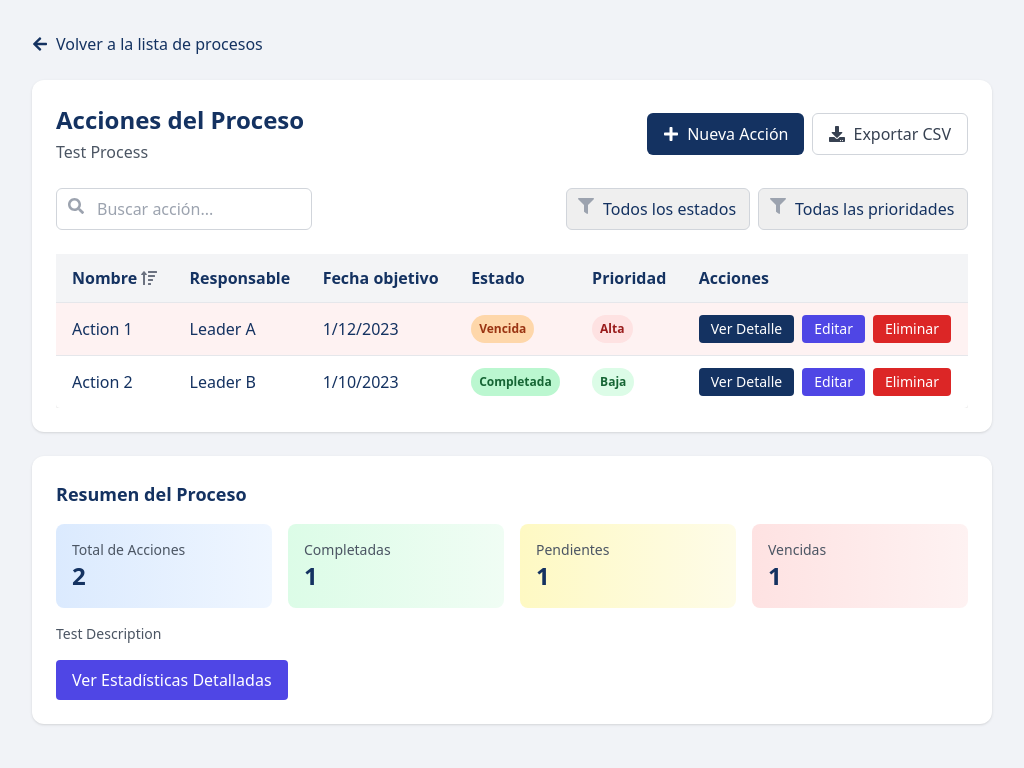
Test case: ActionsList › should filter actions by status
expect the text "Action 1" is shown: met, box [56, 302, 174, 356]
Select "Completadas" in the 1st dropdown at (658, 209), box [566, 188, 750, 230]
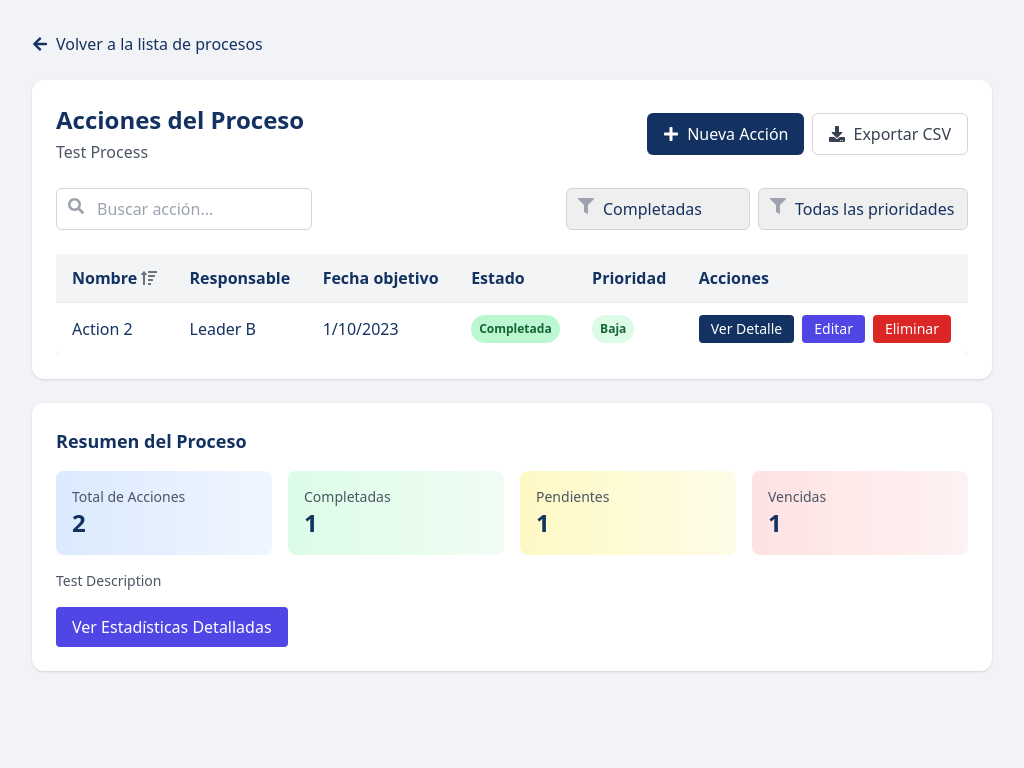
expect the text "Action 2" is shown: met, box [56, 302, 174, 355]
expect the text "Action 1" is gone: met
